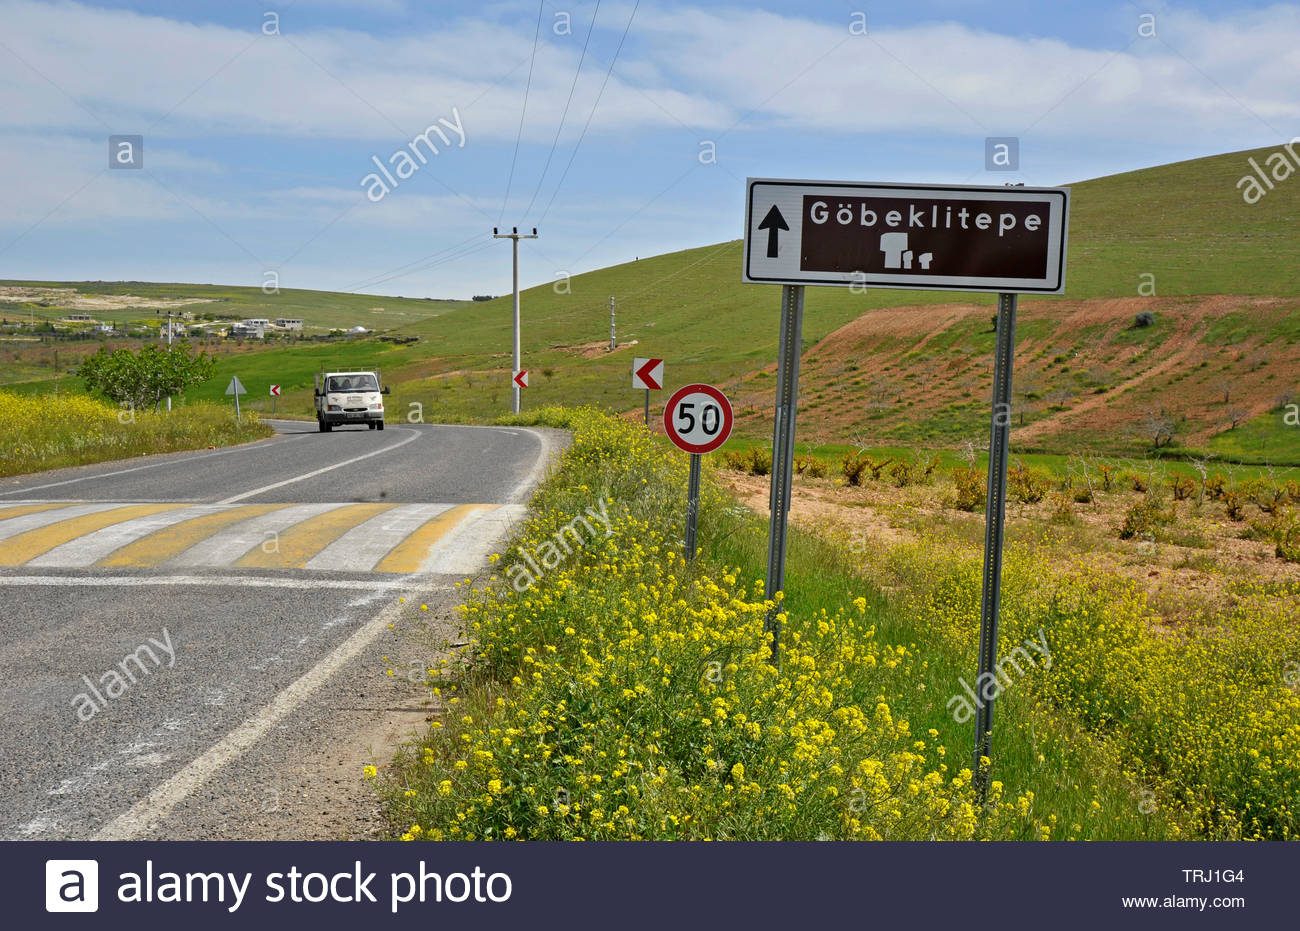speed_limit_50: (667, 387, 732, 454)
